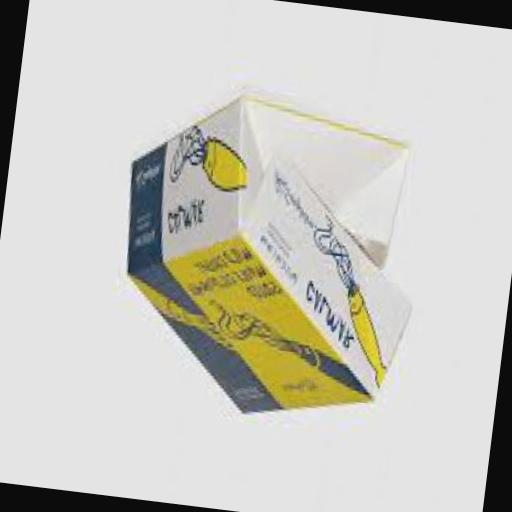cardboard: (103, 80, 434, 436), (220, 94, 411, 274)
